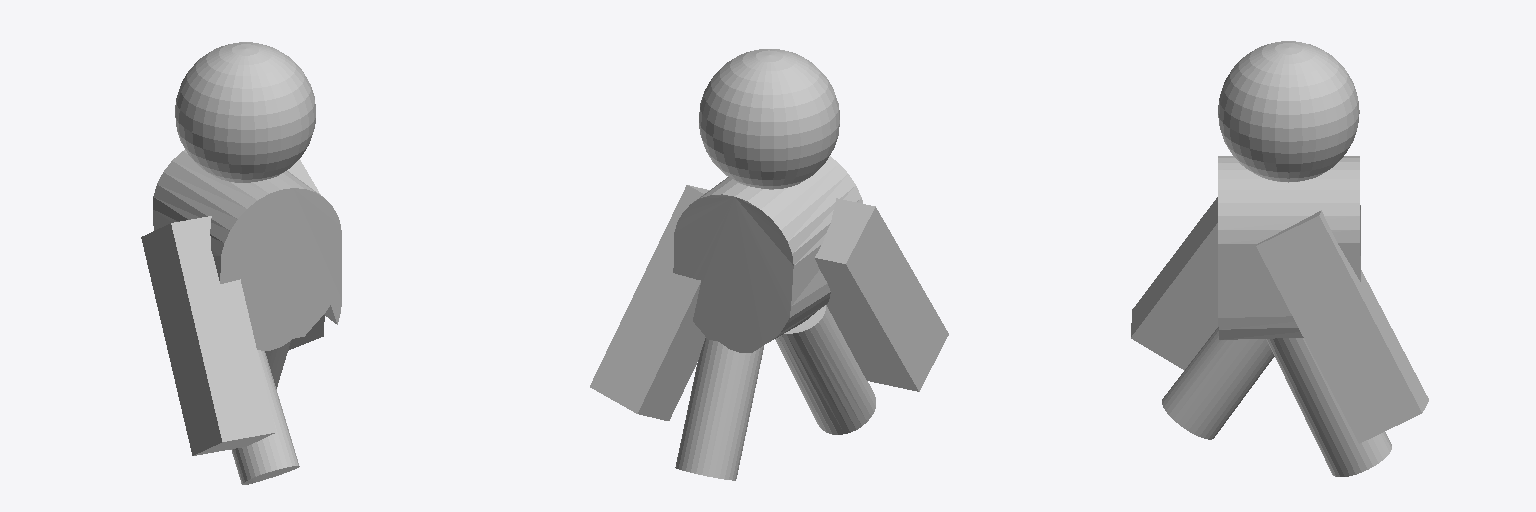
The model's file is Figurine130.obj.
3 renders of one model, left to right at view 1: azimuth 30°, elevation 25°; view 2: azimuth 150°, elevation 25°; view 3: azimuth 270°, elevation 25°, orthographic.
Visible parts, largest first — view 1: Cylinder; view 2: Cylinder; view 3: Cylinder.
Part boxes in pixels (x1,y1,x2,y2): Cylinder: (141,42,341,484); Cylinder: (590,49,948,480); Cylinder: (1131,41,1428,476).
Bounding box in the file's own units: 3.49 × 6.39 × 4.21.